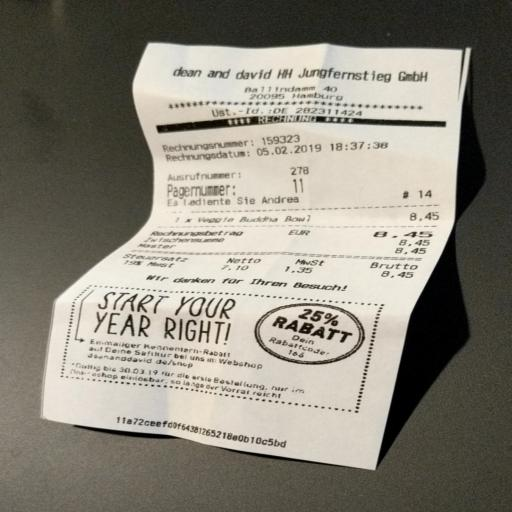paper: (23, 1, 511, 504)
